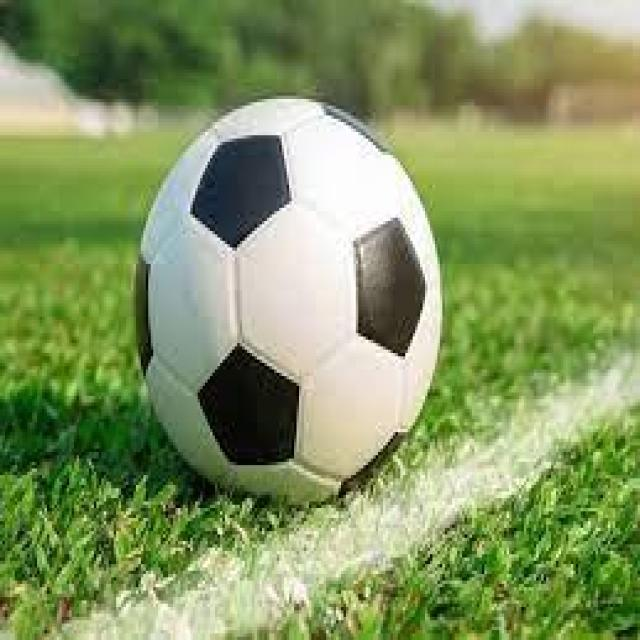Soccer Ball: (138, 99, 445, 505)
